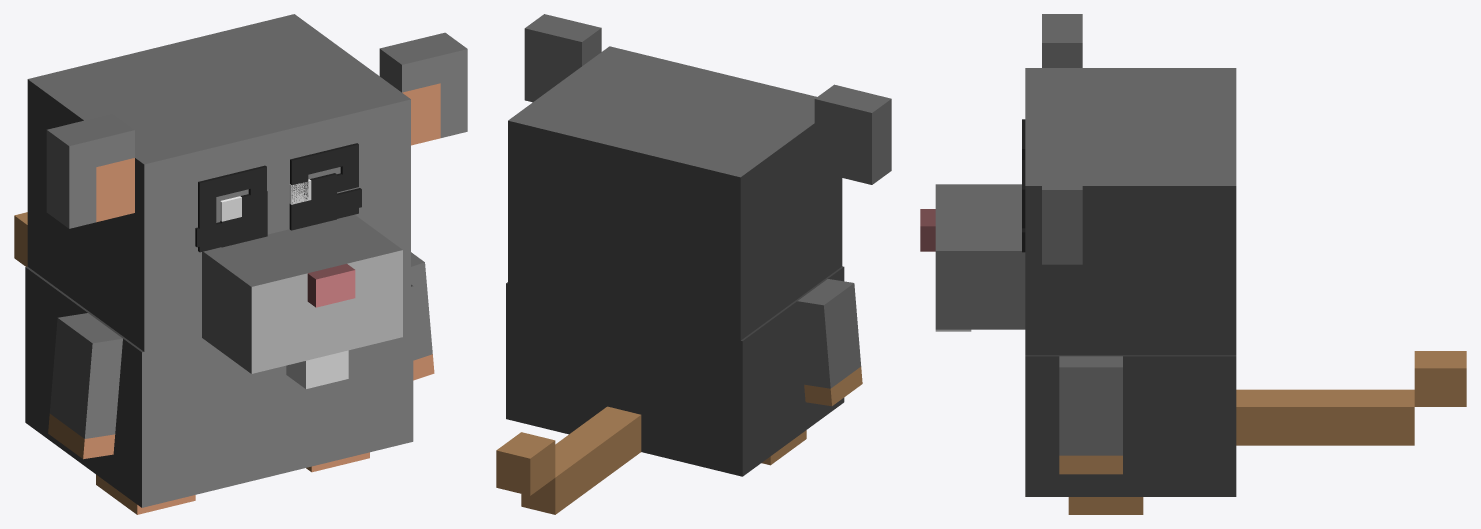
The picture shows the model from 3 angles, left to right: view 1: azimuth 30°, elevation 25°; view 2: azimuth 150°, elevation 25°; view 3: azimuth 270°, elevation 25°; orthographic projection. The views are drawn at different scales.
Parts seen in each view (by area): view 1: Ch_183_Head, Ch_183, Ch_183_Arm_L, Ch_183_Eye_01, Ch_183_Eye_03_R, Ch_183_Eye_03_L, Ch_183_Arm_R, Ch_183_Eye_02, Ch_183_Leg_L, Ch_183_Tail; view 2: Ch_183_Head, Ch_183, Ch_183_Tail, Ch_183_Arm_L; view 3: Ch_183_Head, Ch_183, Ch_183_Tail, Ch_183_Arm_R, Ch_183_Leg_R.
Part boxes in pixels (x1=…): Ch_183_Head: x1=27, y1=14, x2=467, y2=388; Ch_183: x1=25, y1=266, x2=413, y2=507; Ch_183_Arm_L: x1=48, y1=313, x2=122, y2=459; Ch_183_Eye_01: x1=220, y1=173, x2=336, y2=247; Ch_183_Eye_03_R: x1=290, y1=143, x2=358, y2=218; Ch_183_Eye_03_L: x1=198, y1=165, x2=266, y2=252; Ch_183_Arm_R: x1=411, y1=252, x2=434, y2=380; Ch_183_Eye_02: x1=195, y1=188, x2=361, y2=247; Ch_183_Leg_L: x1=96, y1=474, x2=195, y2=514; Ch_183_Tail: x1=14, y1=212, x2=27, y2=266; Ch_183_Head: x1=508, y1=14, x2=891, y2=340; Ch_183: x1=506, y1=266, x2=844, y2=476; Ch_183_Tail: x1=496, y1=406, x2=641, y2=514; Ch_183_Arm_L: x1=797, y1=279, x2=862, y2=406; Ch_183_Head: x1=920, y1=14, x2=1236, y2=355; Ch_183: x1=1025, y1=355, x2=1236, y2=496; Ch_183_Tail: x1=1236, y1=351, x2=1466, y2=445; Ch_183_Arm_R: x1=1059, y1=356, x2=1122, y2=474; Ch_183_Leg_R: x1=1068, y1=497, x2=1143, y2=514.
Size of the model in its own units: 9.89 by 9.49 by 12.99.
